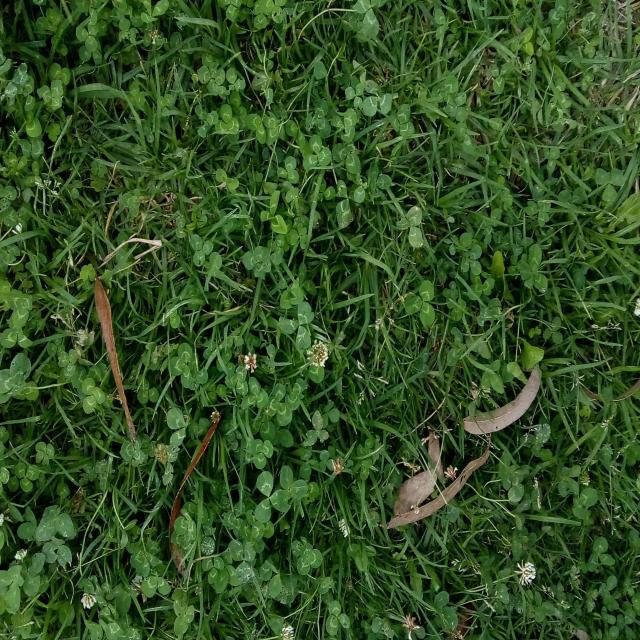Four Leaf Clover: (35, 441, 55, 465)
